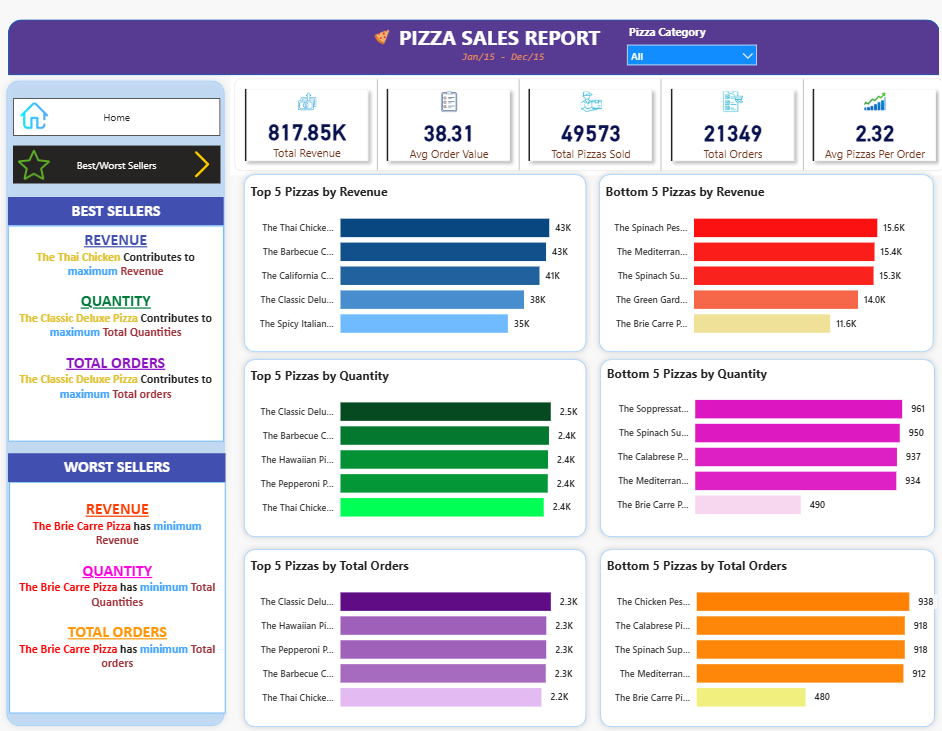

The page's visual inventory and layout, read from the dashboard file:
{"tool":"powerbi","page":{"name":"Best/Worst Sellers","canvas":[1280,980],"ordinal":1},"visuals":[{"type":"shape","box":[10.3,103.8,306.4,875.6],"z":0},{"type":"cardVisual","fields":{"Data":["public pizzadatabase.Total Revenue","public pizzadatabase.Avg Order Value","public pizzadatabase.Total Pizzas Sold","public pizzadatabase.Total Orders","public pizzadatabase.Avg Pizzas Per Order"]},"box":[316.7,103.8,962.8,134.6],"z":1000},{"type":"shape","box":[20.5,29.5,1241,74.4],"z":2000},{"type":"textbox","box":[529.8,29.8,290.5,45.2],"z":3000},{"type":"textbox","box":[619,64.3,134.5,29.8],"z":4000},{"type":"image","box":[492.9,44,50,20.2],"z":5000},{"type":"shape","box":[326.9,228.2,471.8,252.6],"z":6000},{"type":"textbox","box":[20,266.2,287.5,37.5],"z":7000},{"type":"textbox","box":[20.5,303.8,287.2,287.2],"z":8000},{"type":"textbox","box":[20.5,607.7,289.7,38.5],"z":9000},{"type":"textbox","box":[21,646,288,308],"z":10000},{"type":"slicer","fields":{"Values":["public pizzadatabase.pizza_category"]},"box":[834.6,32.1,193.6,69.2],"z":11000},{"type":"shape","box":[326.9,474.4,471.8,252.6],"z":13000},{"type":"shape","box":[798.7,228.2,461.5,252.6],"z":14000},{"type":"shape","box":[800,474.4,461.5,252.6],"z":15000},{"type":"shape","box":[800,726.9,461.5,252.6],"z":16000},{"type":"shape","box":[326.9,726.9,471.8,252.6],"z":17000},{"type":"barChart","title":"Top 5 Pizzas by Revenue","fields":{"Category":["public pizzadatabase.pizza_name"],"Y":["public pizzadatabase.Total Revenue"]},"box":[338.5,247.4,450,217.9],"z":18000},{"type":"barChart","title":"Bottom 5 Pizzas by Revenue","fields":{"Category":["public pizzadatabase.pizza_name"],"Y":["public pizzadatabase.Total Revenue"]},"box":[810.3,247.4,441,217.9],"z":19000},{"type":"barChart","title":"Top 5 Pizzas by Quantity","fields":{"Category":["public pizzadatabase.pizza_name"],"Y":["public pizzadatabase.Total Pizzas Sold"]},"box":[337.2,492.3,450,217.9],"z":20000},{"type":"barChart","title":"Bottom 5 Pizzas by Quantity","fields":{"Category":["public pizzadatabase.pizza_name"],"Y":["public pizzadatabase.Total Pizzas Sold"]},"box":[811.5,489.7,438.5,217.9],"z":21000},{"type":"barChart","title":"Top 5 Pizzas by Total Orders","fields":{"Category":["public pizzadatabase.pizza_name"],"Y":["public pizzadatabase.Total Orders"]},"box":[338.5,744.9,450,217.9],"z":22000},{"type":"barChart","title":"Bottom 5 Pizzas by Total Orders","fields":{"Category":["public pizzadatabase.pizza_name"],"Y":["public pizzadatabase.Total Orders"]},"box":[811.5,744.9,450,217.9],"z":23000},{"type":"pageNavigator","box":[26.9,134.6,276.9,50],"z":24000},{"type":"pageNavigator","box":[26.9,197.4,276.9,50],"z":25000},{"type":"image","box":[217.9,205.1,120.5,35.9],"z":26000},{"type":"image","box":[35.9,134.6,37.2,46.2],"z":27000},{"type":"image","box":[33.3,194.9,42.3,57.7],"z":28000}]}

Visuals, with their boxes in screenshot pixels (x1, y1, x2, y2), scaled from the page's 1280x980 canvas onto the 942x731 screenshot:
shape: BBox(8, 77, 233, 730)
cardVisual - public pizzadatabase.Total Revenue x public pizzadatabase.Avg Order Value: BBox(233, 77, 941, 178)
shape: BBox(15, 22, 928, 78)
textbox: BBox(390, 22, 604, 56)
textbox: BBox(456, 48, 555, 70)
image: BBox(363, 33, 400, 48)
shape: BBox(241, 170, 588, 359)
textbox: BBox(15, 199, 226, 227)
textbox: BBox(15, 227, 226, 441)
textbox: BBox(15, 453, 228, 482)
textbox: BBox(15, 482, 227, 712)
slicer - public pizzadatabase.pizza_category: BBox(614, 24, 757, 76)
shape: BBox(241, 354, 588, 542)
shape: BBox(588, 170, 927, 359)
shape: BBox(589, 354, 928, 542)
shape: BBox(589, 542, 928, 730)
shape: BBox(241, 542, 588, 730)
"Top 5 Pizzas by Revenue" barChart: BBox(249, 185, 580, 347)
"Bottom 5 Pizzas by Revenue" barChart: BBox(596, 185, 921, 347)
"Top 5 Pizzas by Quantity" barChart: BBox(248, 367, 579, 530)
"Bottom 5 Pizzas by Quantity" barChart: BBox(597, 365, 920, 528)
"Top 5 Pizzas by Total Orders" barChart: BBox(249, 556, 580, 718)
"Bottom 5 Pizzas by Total Orders" barChart: BBox(597, 556, 928, 718)
pageNavigator: BBox(20, 100, 224, 138)
pageNavigator: BBox(20, 147, 224, 185)
image: BBox(160, 153, 249, 180)
image: BBox(26, 100, 54, 135)
image: BBox(25, 145, 56, 188)
